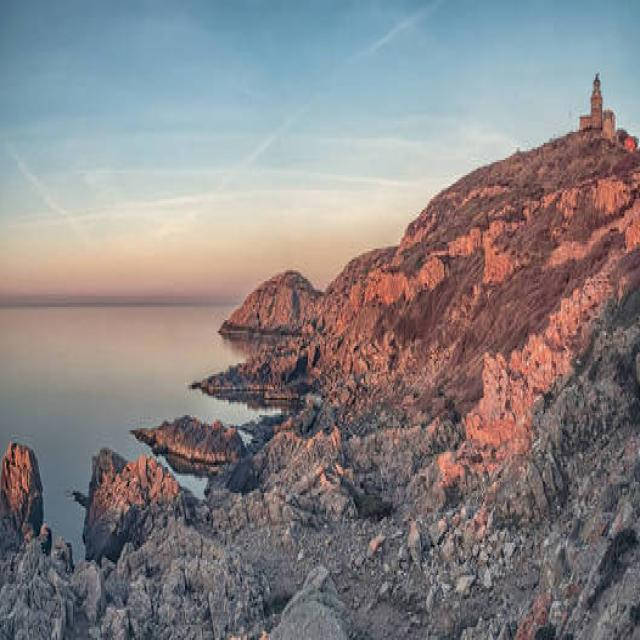reef: (1, 361, 246, 570)
